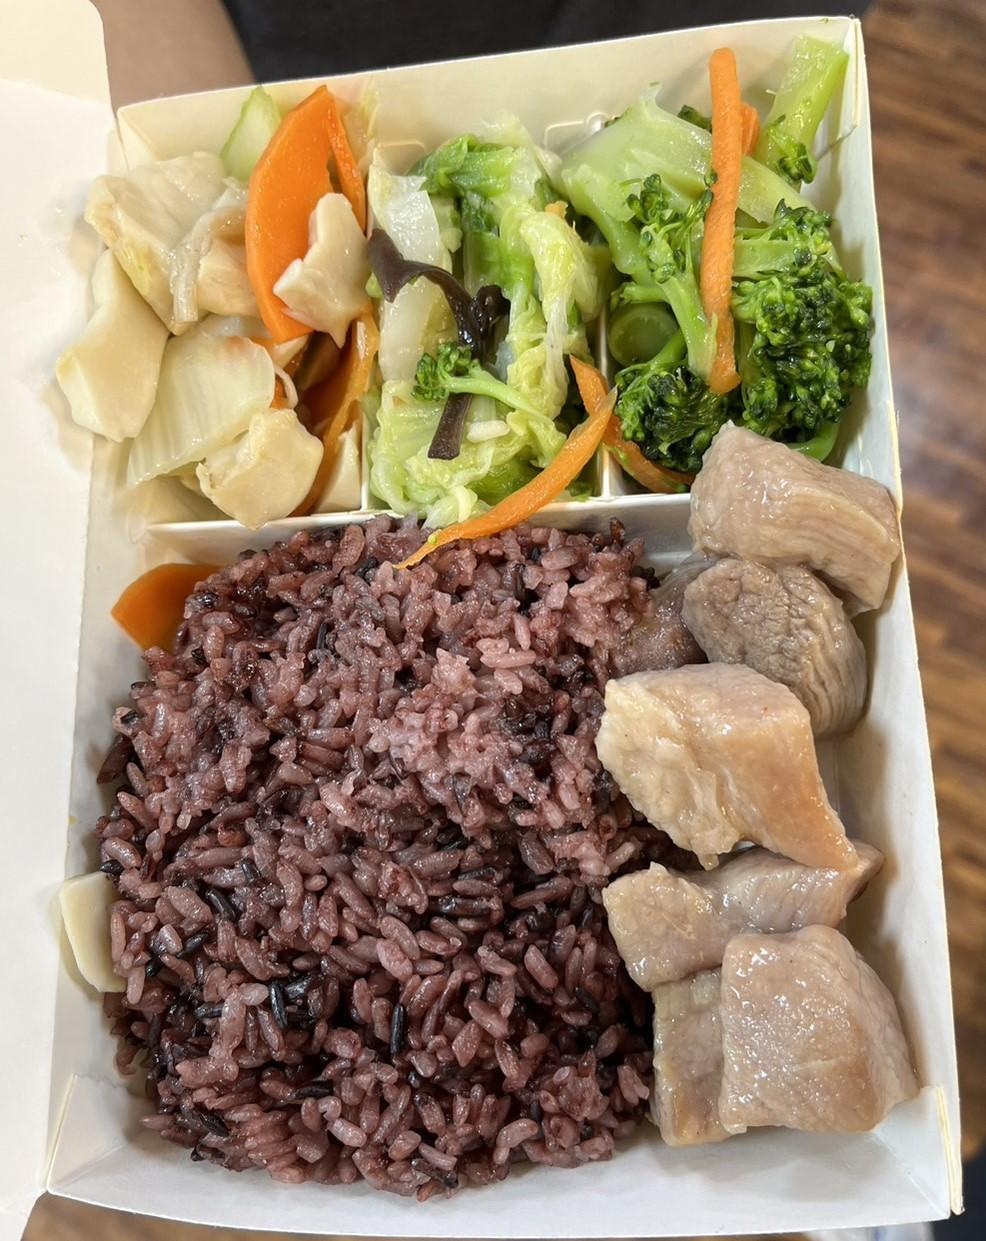big grilled chicken leg: (15, 3, 986, 1241)
braised fish: (91, 506, 651, 1191)
braised fish fillet: (46, 81, 374, 523), (582, 36, 869, 491), (371, 128, 591, 547)
braised pork: (594, 413, 908, 1156)
